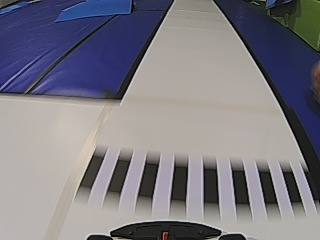CrossWalk: (74, 151, 311, 207)
